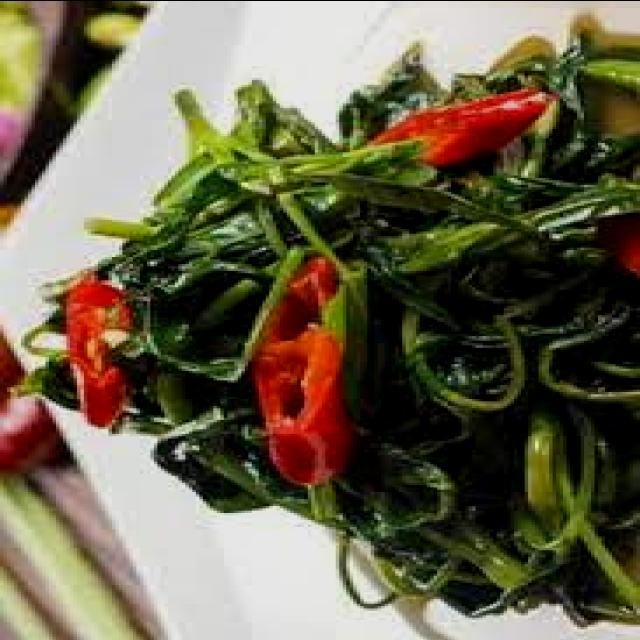tumis kangkung: (55, 27, 636, 587)
